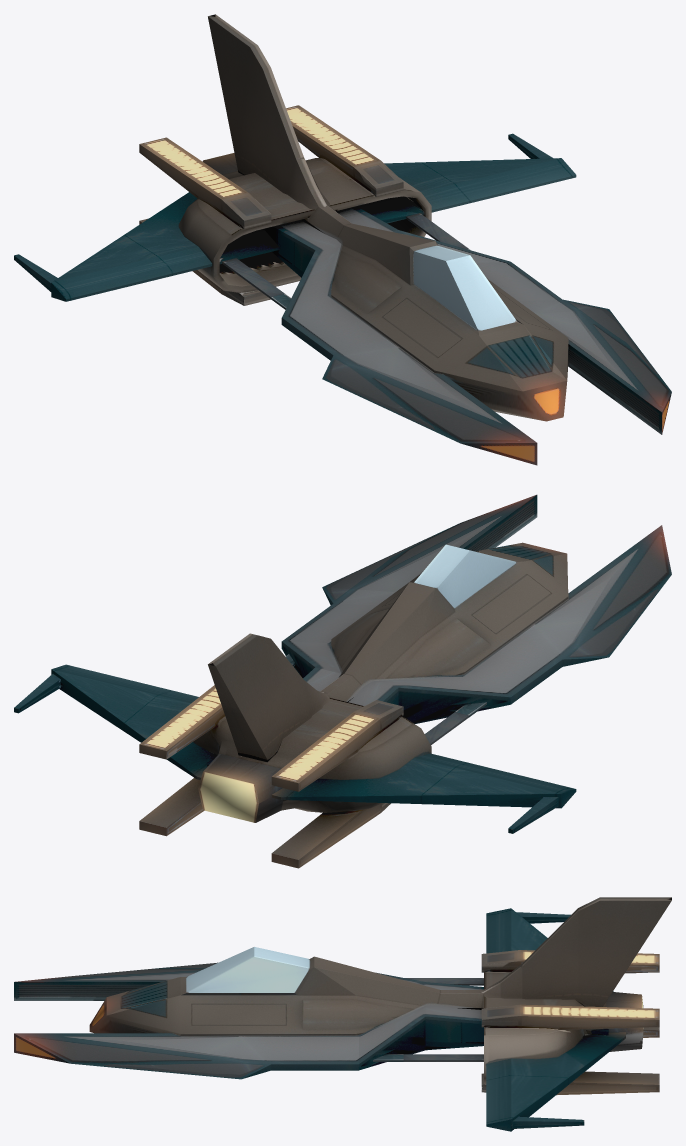
Rendered from vehicle_spacecraft_ship_invader_001_gr_mesh.FBX.
3 views of the same model, one above another, from view 1: azimuth 30°, elevation 25°; view 2: azimuth 150°, elevation 25°; view 3: azimuth 270°, elevation 25° (orthographic). The views are drawn at different scales.
Parts seen in each view (by area): view 1: vehicle_spacecraft_ship_invader_001_gr; view 2: vehicle_spacecraft_ship_invader_001_gr; view 3: vehicle_spacecraft_ship_invader_001_gr.
Part boxes in pixels (box(x1,y1,x2,y2)): vehicle_spacecraft_ship_invader_001_gr: box(14, 14, 671, 465); vehicle_spacecraft_ship_invader_001_gr: box(14, 494, 671, 868); vehicle_spacecraft_ship_invader_001_gr: box(14, 897, 671, 1131).
Bounding box in the file's own units: 5.81 × 2.11 × 7.65.
